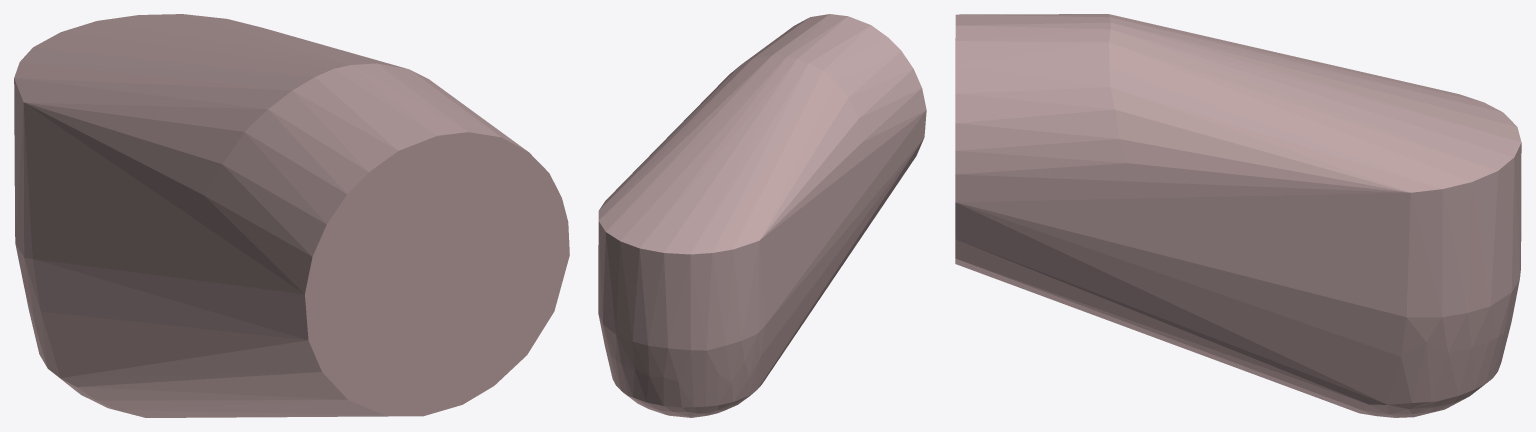
Rendered from dualpanda_Panda_rightArm_link2_respondable_coll_1.dae.
3 renders of one model, left to right at view 1: azimuth 30°, elevation 25°; view 2: azimuth 150°, elevation 25°; view 3: azimuth 270°, elevation 25°, orthographic. The views are drawn at different scales.
Visible parts, largest first — view 1: node; view 2: node; view 3: node.
Boxes of the visible parts, x1,y1,x2,y2 form: node: (14,14,569,417); node: (598,14,926,417); node: (955,14,1521,417).
Bounding box in the file's own units: 0.1101 × 0.1846 × 0.2492.
